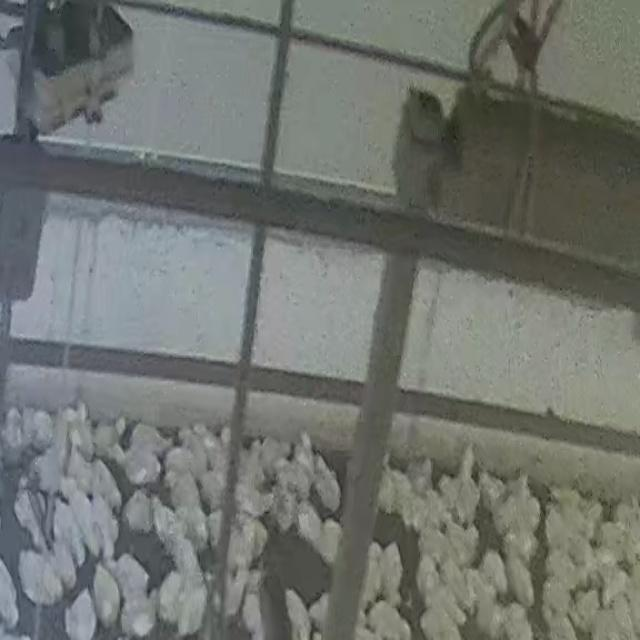chicken: (448, 442, 484, 514), (67, 484, 102, 558), (499, 537, 535, 608), (18, 548, 61, 606), (86, 481, 119, 554), (51, 498, 85, 568), (13, 489, 49, 552), (164, 470, 203, 528), (32, 437, 68, 494), (479, 549, 512, 611), (114, 553, 150, 608), (115, 444, 165, 483), (90, 566, 123, 624), (89, 454, 122, 512), (174, 582, 209, 636), (311, 454, 343, 513), (156, 568, 186, 629), (66, 585, 99, 639), (222, 564, 252, 622), (120, 484, 154, 535), (415, 552, 445, 609), (0, 553, 22, 629), (188, 426, 218, 480), (128, 421, 177, 454), (283, 588, 314, 640), (371, 603, 414, 640), (238, 587, 267, 640), (538, 578, 575, 618), (69, 405, 96, 459), (382, 543, 406, 603), (62, 442, 90, 493), (152, 502, 180, 550), (1, 405, 26, 458), (546, 505, 574, 551), (197, 465, 226, 507), (238, 484, 274, 516), (258, 435, 286, 476), (92, 422, 122, 457), (307, 593, 332, 635), (294, 437, 316, 479), (601, 570, 631, 600)
